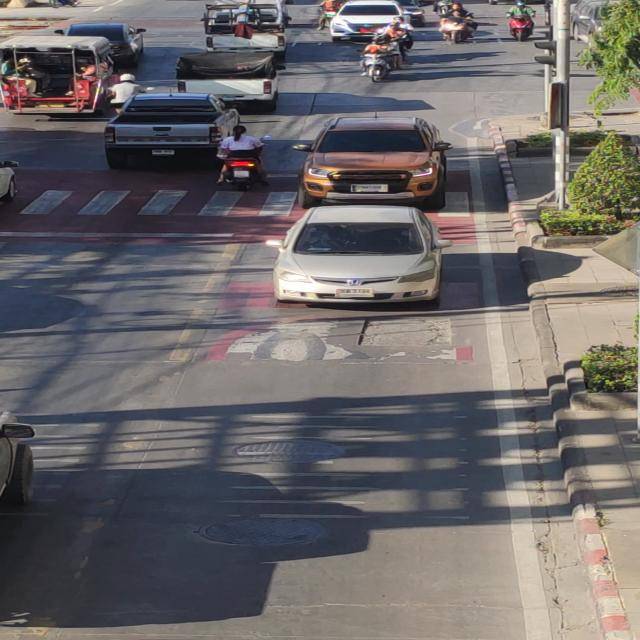car: (255, 200, 459, 312)
